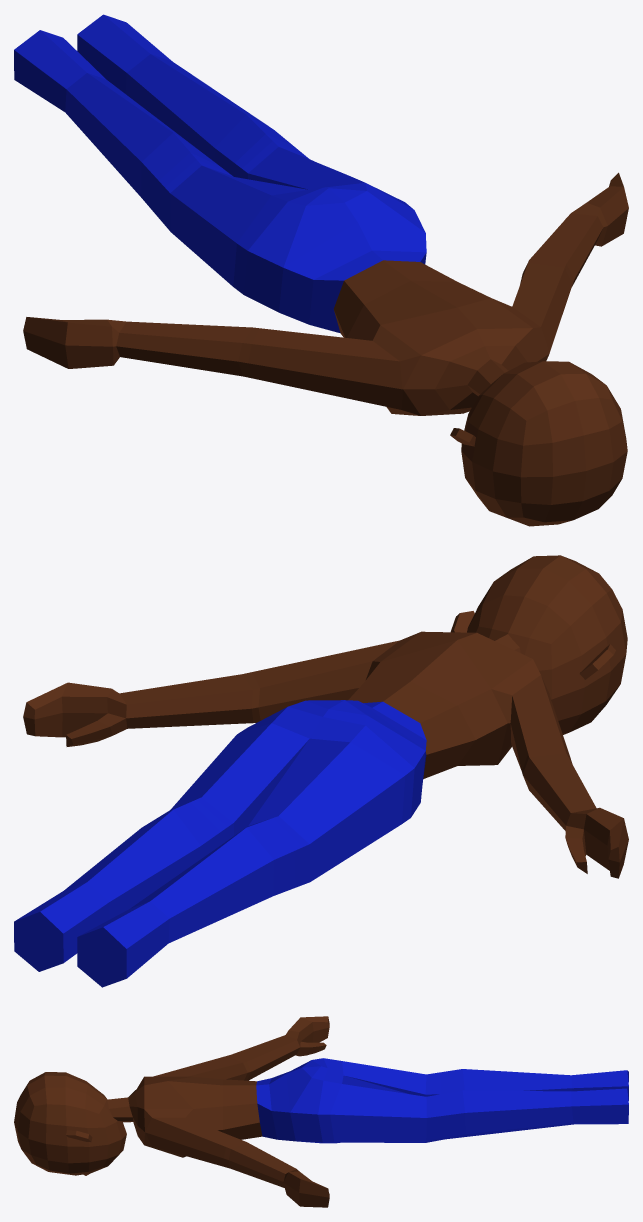
File: body.obj
3 views of the same model, one above another, from view 1: azimuth 30°, elevation 25°; view 2: azimuth 150°, elevation 25°; view 3: azimuth 270°, elevation 25° (orthographic). The views are drawn at different scales.
Parts seen in each view (by area): view 1: body; view 2: body; view 3: body.
Part boxes in pixels (x1,y1,x2,y2): body: (14,14,628,526); body: (14,555,628,987); body: (14,1016,628,1207).
Bounding box in the file's own units: 10.3 × 3.05 × 15.44.
